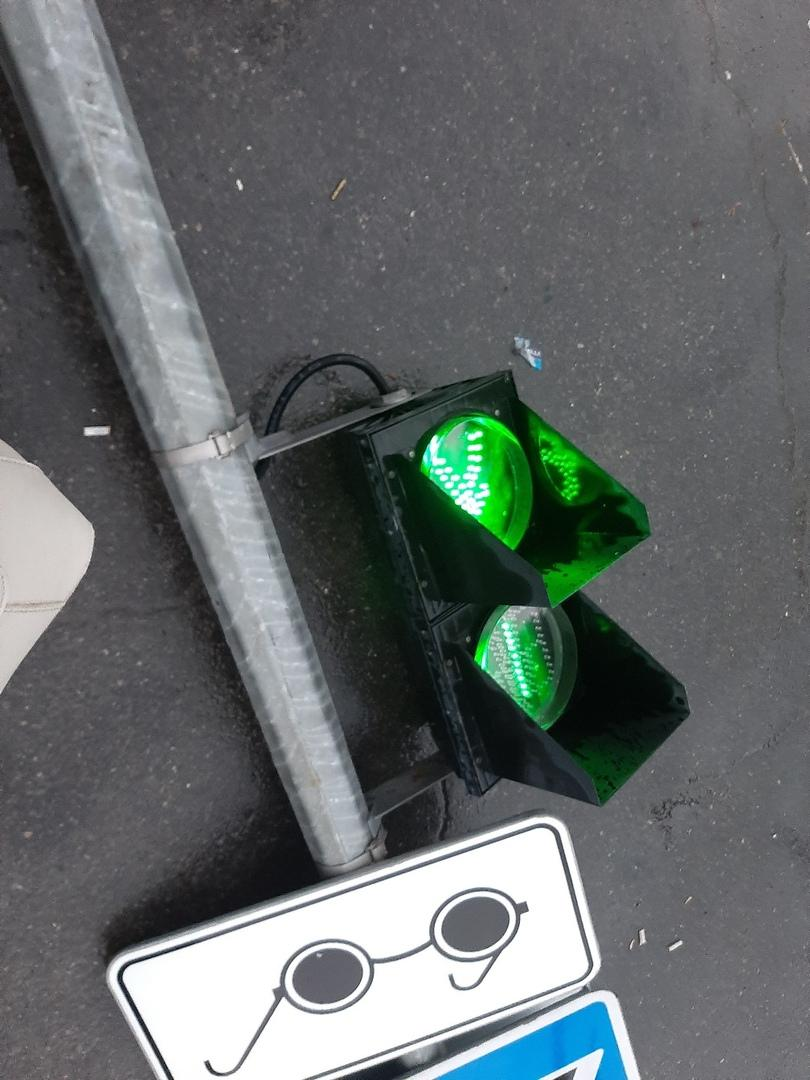traffic light: (346, 371, 690, 804)
